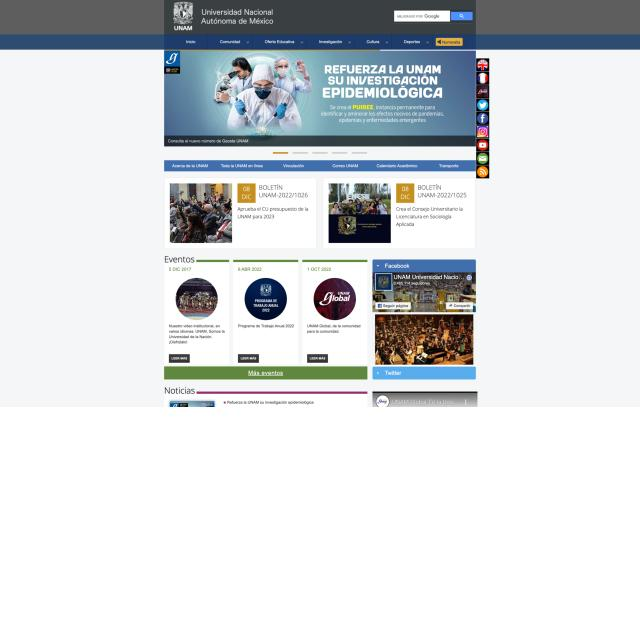input: (394, 10, 450, 22)
logo: (172, 0, 275, 32)
navigation: (165, 35, 476, 49), (164, 160, 475, 171)
